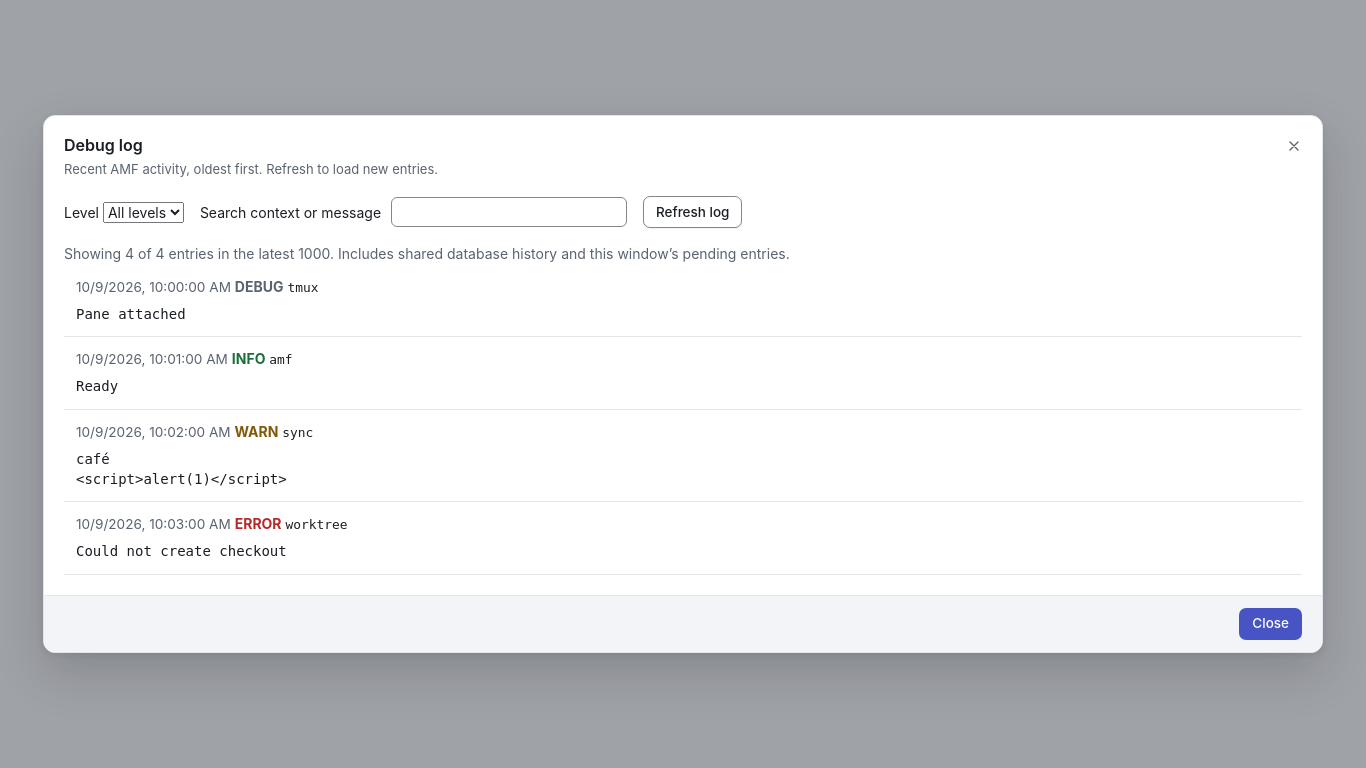
refreshes without reopening and retains the viewer filters
Expected: the text "Pane attached" is shown, [76,306,186,322]
Select "WARN" in the dropdown labelled "Level". click: (143, 212)
box: [103,202,184,223]
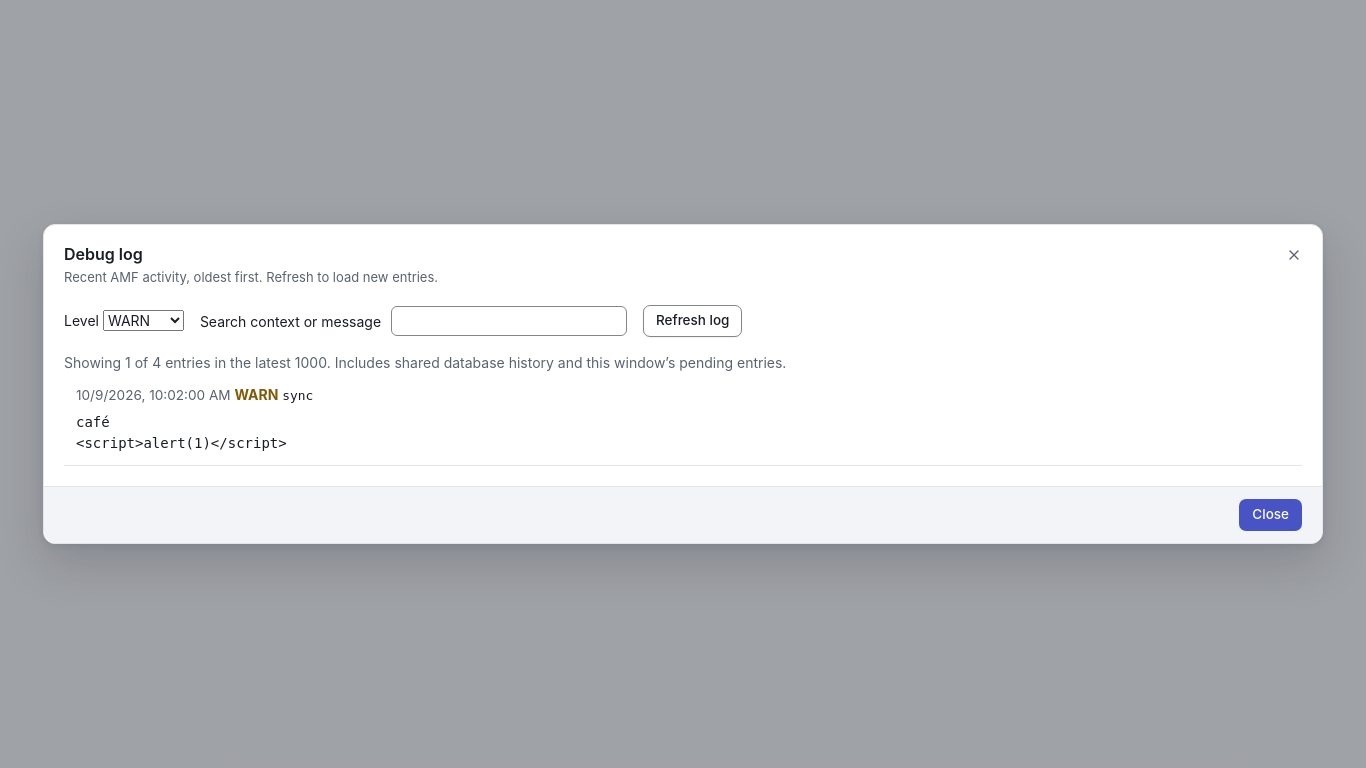
Type "sync" into the search field labelled "Search context or message". click: (509, 321)
box: [391,306,627,336]
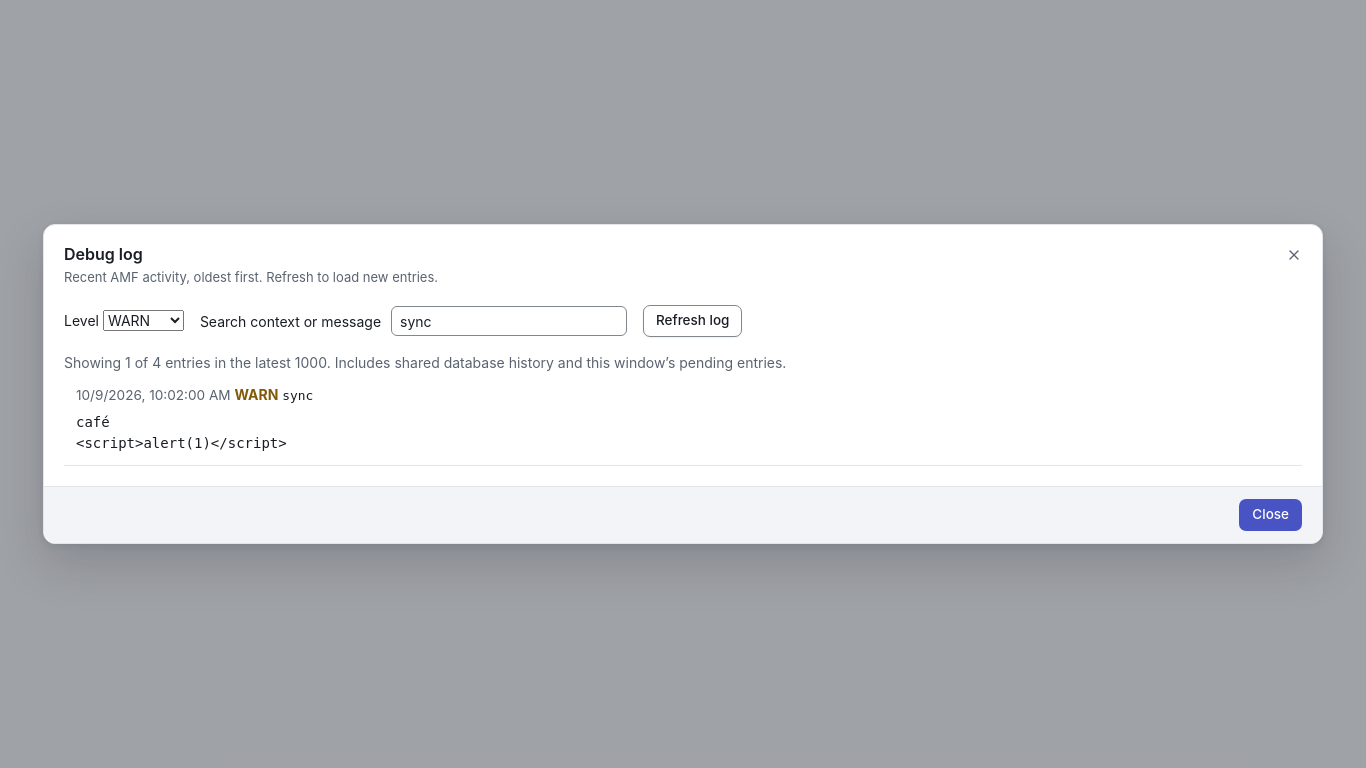
Click the button "Refresh log". click: (693, 321)
box: [643,305,742,337]
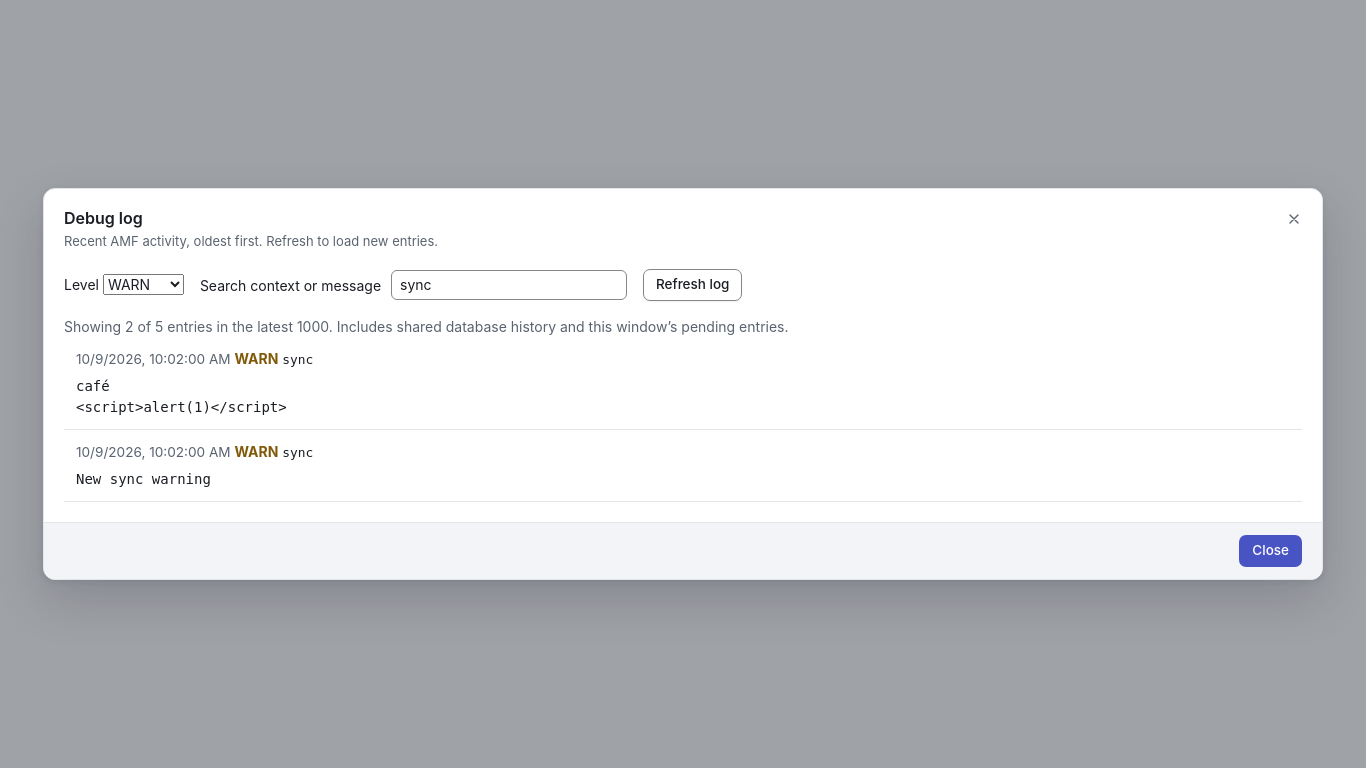
Expected: the text "Pane attached" is not shown
Now the text "New sync warning" is shown, box [76,471,211,487]
Now the text "Showing 2 of 5" is shown, box [64,318,788,335]
